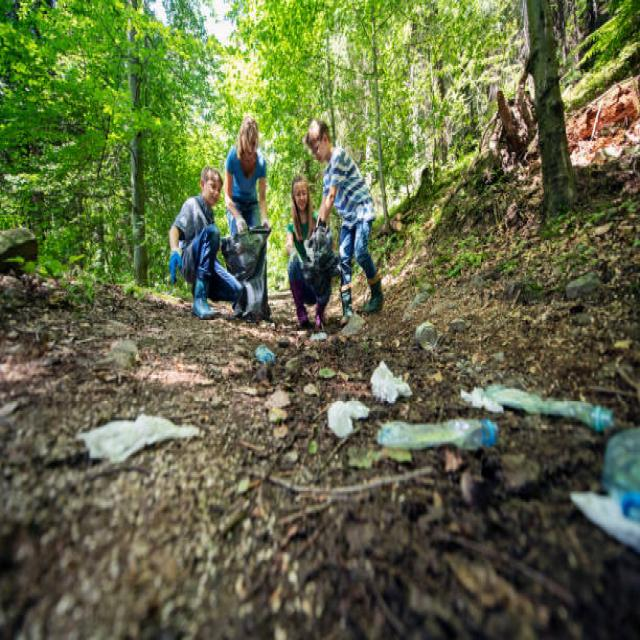plastic: (326, 361, 632, 503)
trash: (207, 229, 335, 337)
